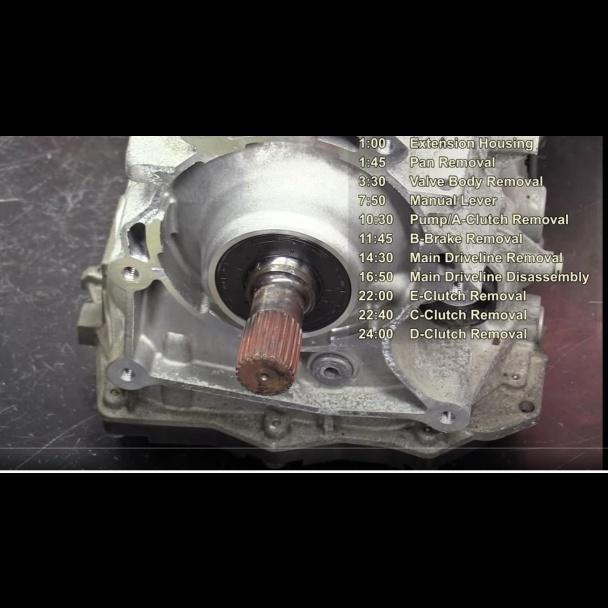hole: (117, 263, 140, 282), (438, 409, 456, 427), (119, 366, 136, 382)
